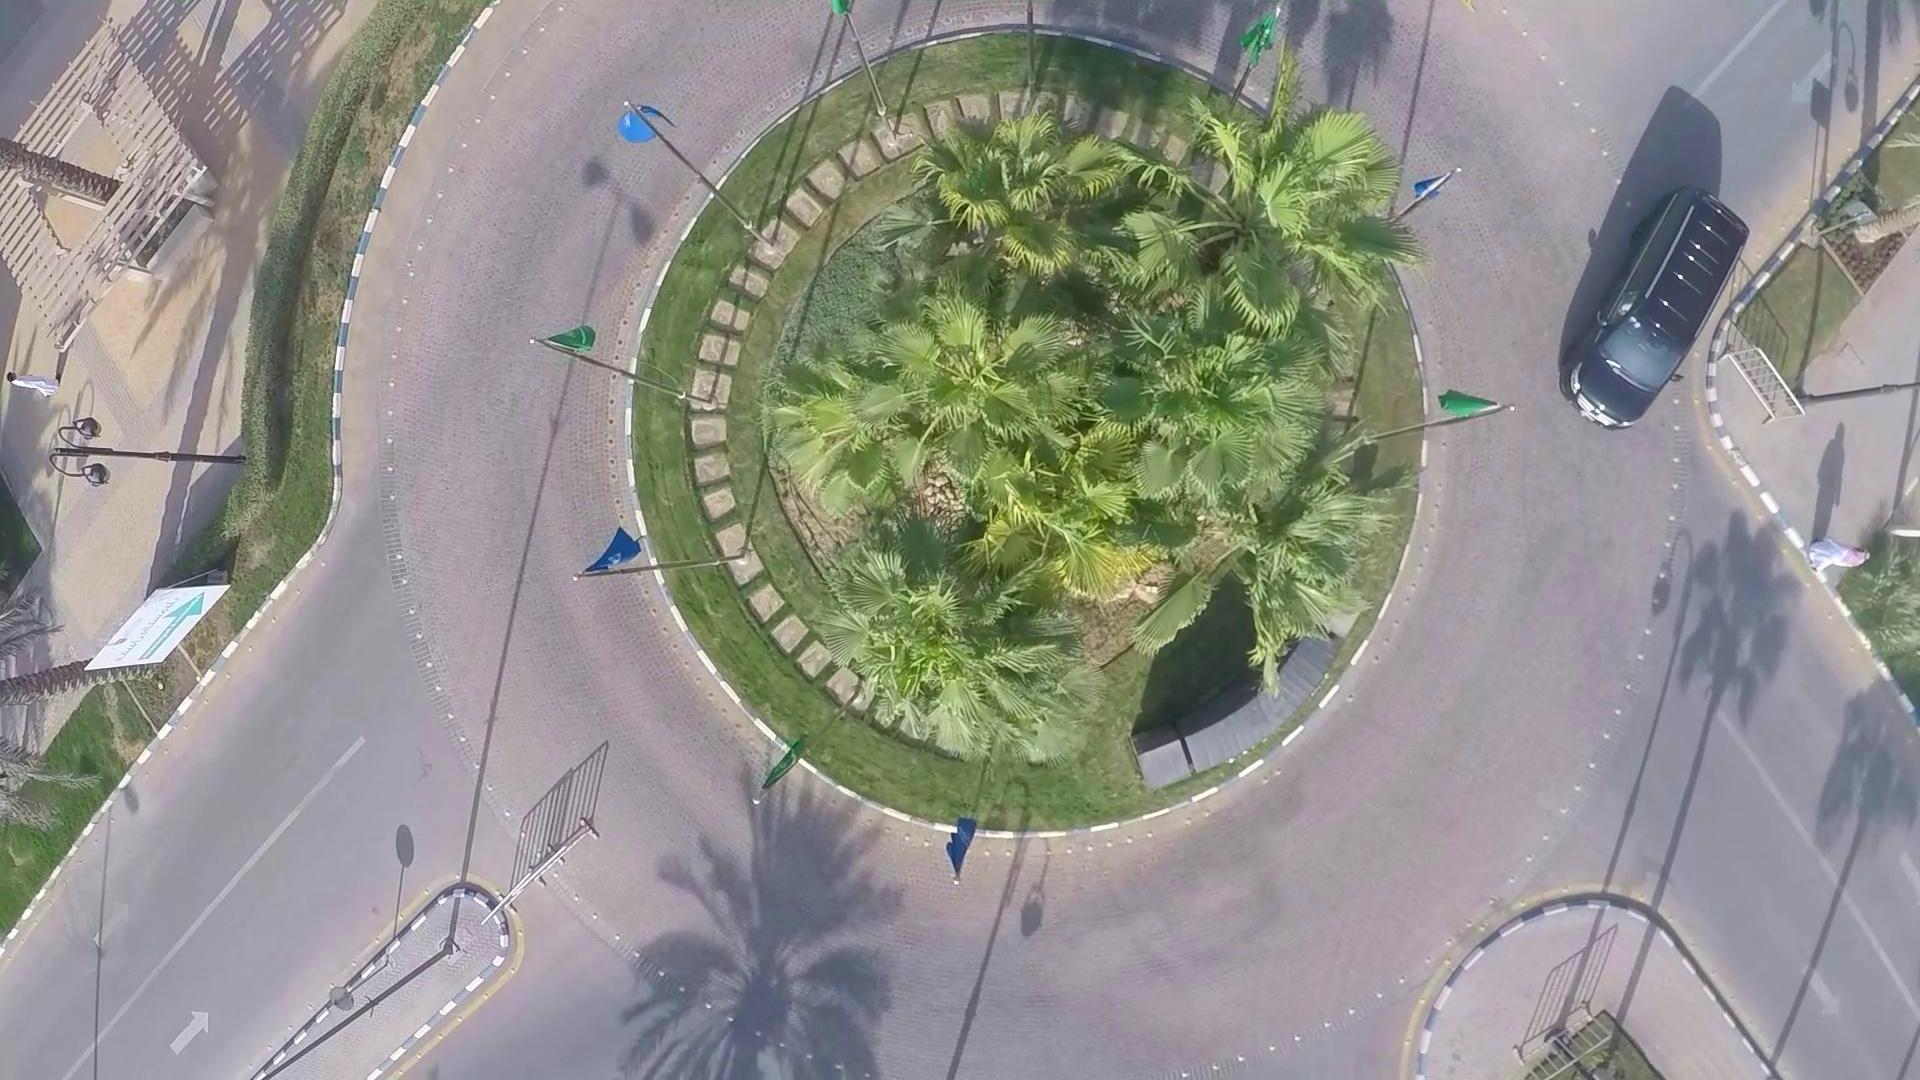vehicle: (1542, 187, 1746, 425)
